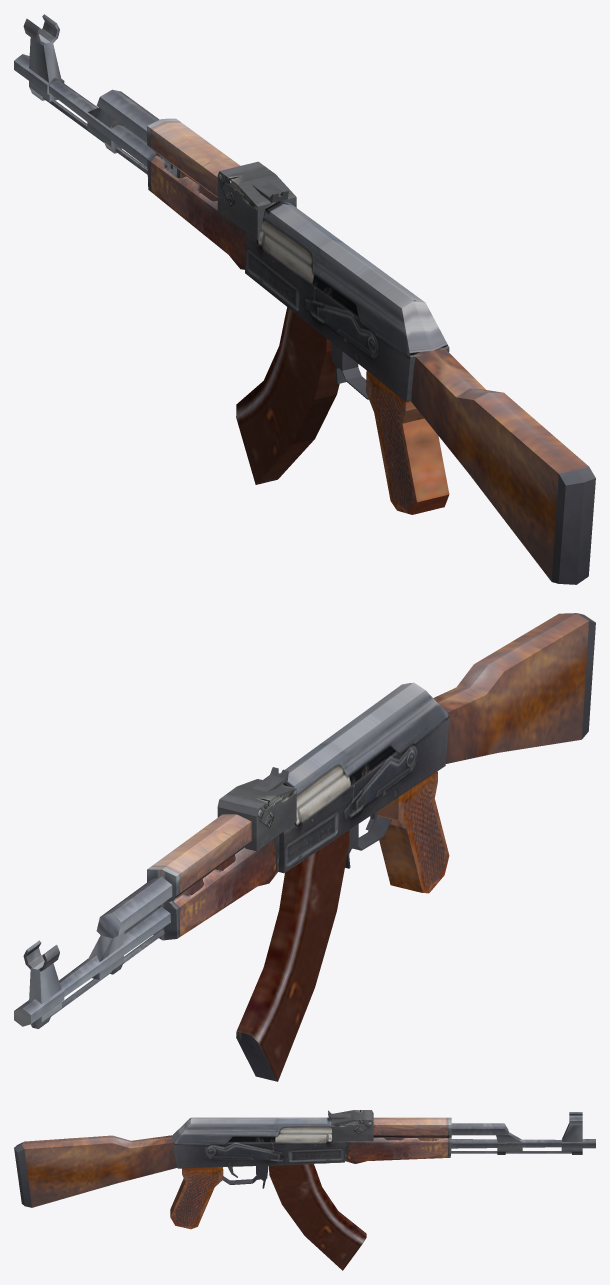
3 views of the same model, one above another, from view 1: azimuth 30°, elevation 25°; view 2: azimuth 150°, elevation 25°; view 3: azimuth 270°, elevation 25° (orthographic). The views are drawn at different scales.
Parts seen in each view (by area): view 1: GUN, MAG; view 2: GUN, MAG; view 3: GUN, MAG.
Part boxes in pixels (bbox=[...]): GUN: bbox=[14, 14, 595, 584]; MAG: bbox=[236, 307, 339, 484]; GUN: bbox=[14, 613, 595, 1028]; MAG: bbox=[236, 830, 349, 1081]; GUN: bbox=[14, 1110, 595, 1229]; MAG: bbox=[269, 1164, 366, 1270].
Size of the model in its own units: 131 by 862 by 2926.
Materials: 1 (1 with a texture image).
